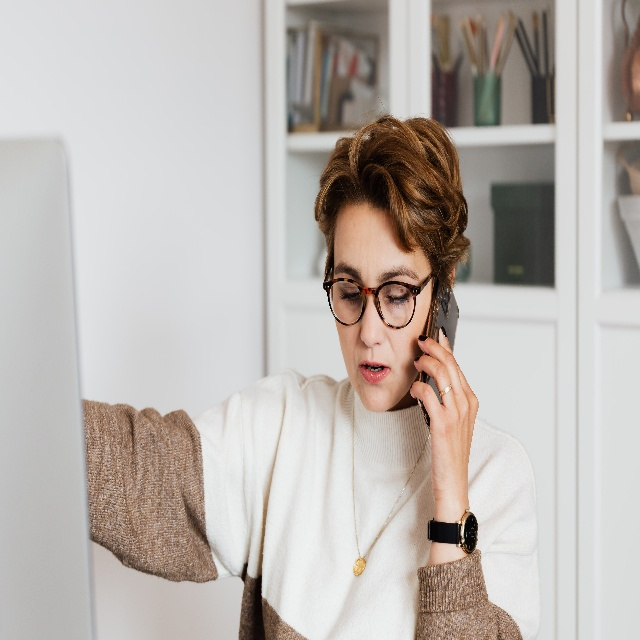Gafas: (321, 265, 437, 330)
Sin_guantes: (407, 328, 480, 493)
